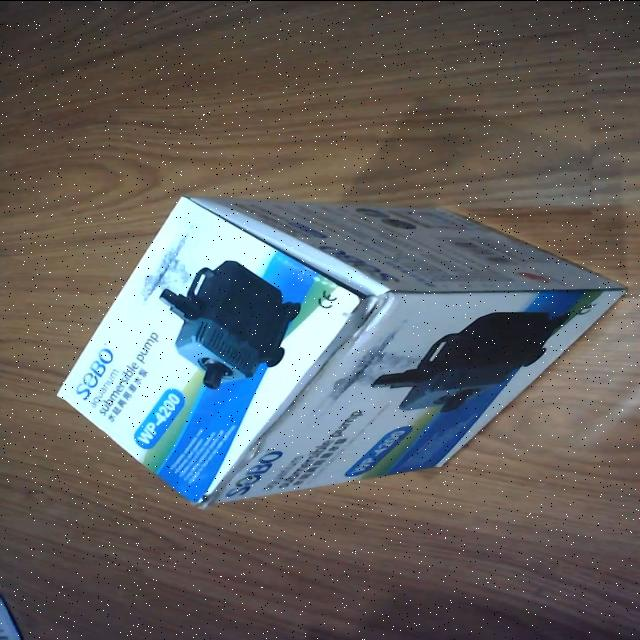SOBO_WP_4200: (51, 188, 630, 512)
